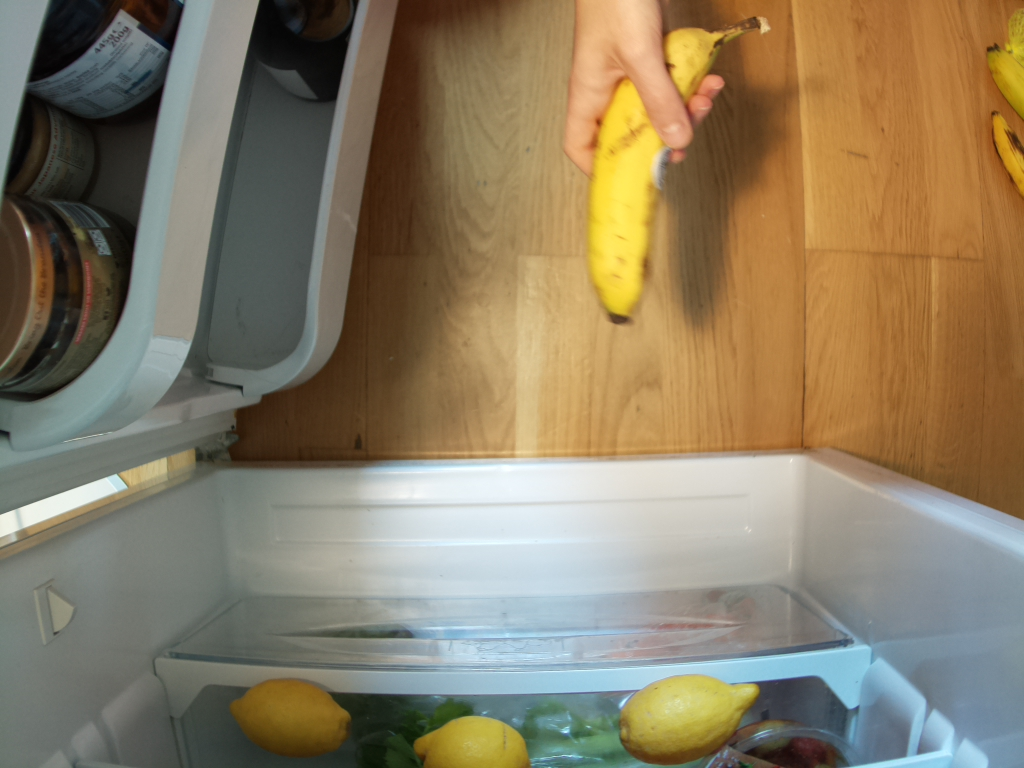banana: (587, 12, 770, 326)
